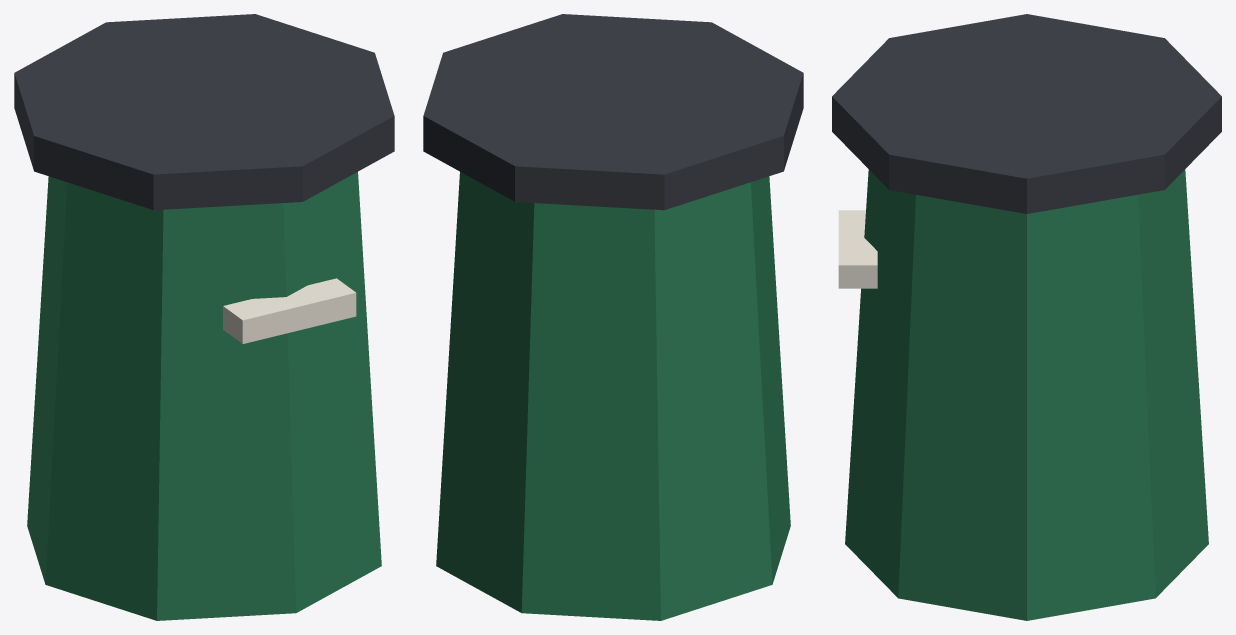
Rendered from trash_can.glb.
3 renders of one model, left to right at view 1: azimuth 30°, elevation 25°; view 2: azimuth 150°, elevation 25°; view 3: azimuth 270°, elevation 25°, orthographic.
Parts seen in each view (by area): view 1: trash_can; view 2: trash_can; view 3: trash_can.
Part boxes in pixels (x1,y1,x2,y2): trash_can: [14, 14, 394, 620]; trash_can: [423, 14, 803, 620]; trash_can: [832, 14, 1221, 620].
Size of the model in its own units: 0.6 by 0.76 by 0.6.
